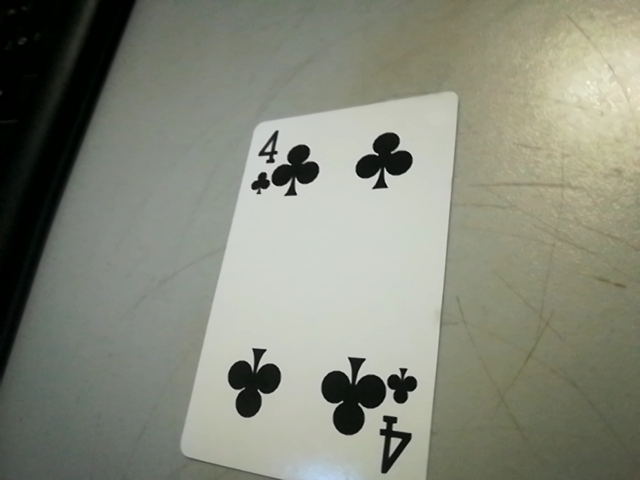mh 4: (373, 360, 430, 480), (242, 129, 289, 200)
